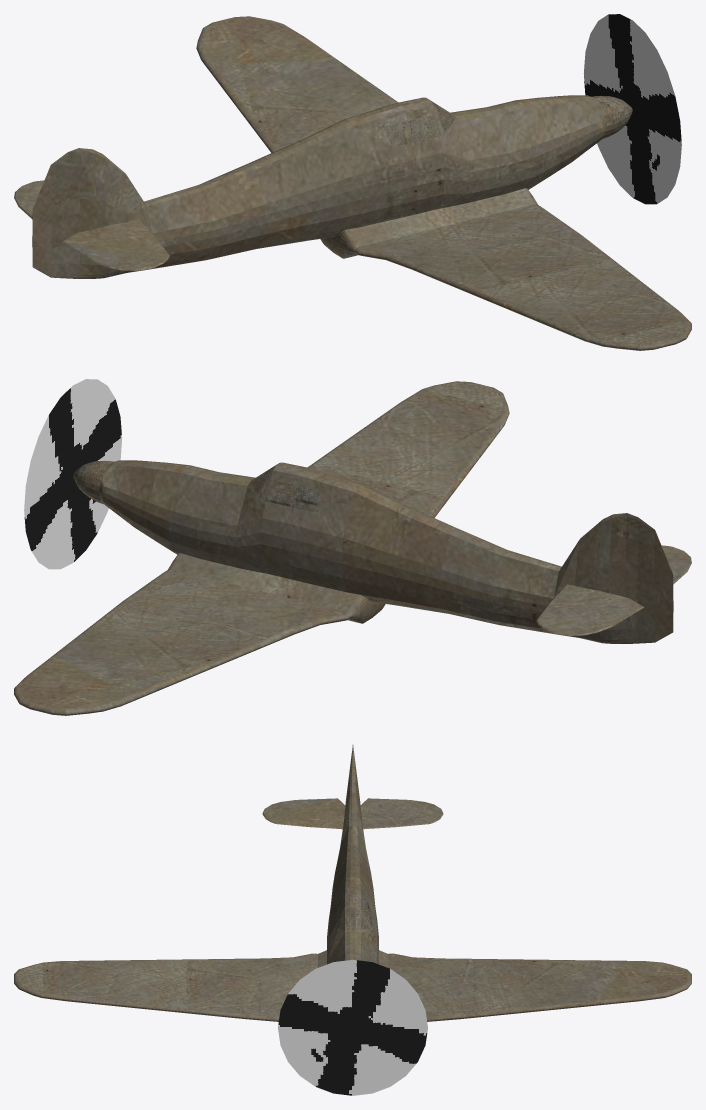
3 renders of one model, top to bottom at view 1: azimuth 30°, elevation 25°; view 2: azimuth 150°, elevation 25°; view 3: azimuth 270°, elevation 25°, orthographic. The views are drawn at different scales.
Parts seen in each view (by area): view 1: mesh1_mesh1-geometry, mesh2_mesh2-geometry; view 2: mesh1_mesh1-geometry, mesh2_mesh2-geometry; view 3: mesh1_mesh1-geometry, mesh2_mesh2-geometry.
Boxes of the visible parts, left/top/right/bottom form: mesh1_mesh1-geometry: left=14, top=16, right=691, bottom=350; mesh2_mesh2-geometry: left=583, top=14, right=681, bottom=204; mesh1_mesh1-geometry: left=14, top=381, right=691, bottom=715; mesh2_mesh2-geometry: left=24, top=379, right=122, bottom=569; mesh1_mesh1-geometry: left=14, top=745, right=691, bottom=1021; mesh2_mesh2-geometry: left=278, top=960, right=427, bottom=1095.
Size of the model in its own units: 0.6063 by 0.1788 by 0.7748.
Materials: 4 (3 with a texture image).
